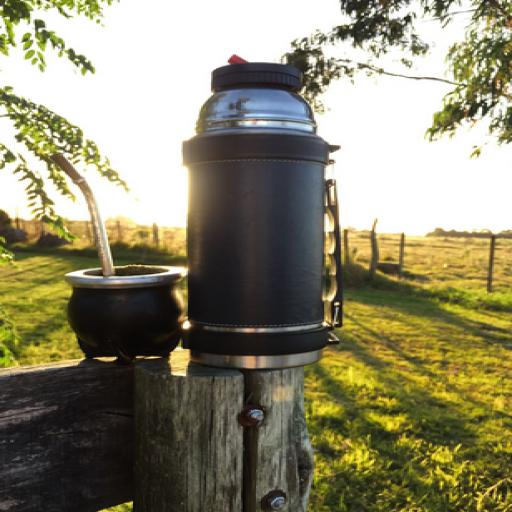mate: (59, 255, 192, 365)
termo: (193, 50, 338, 367)
